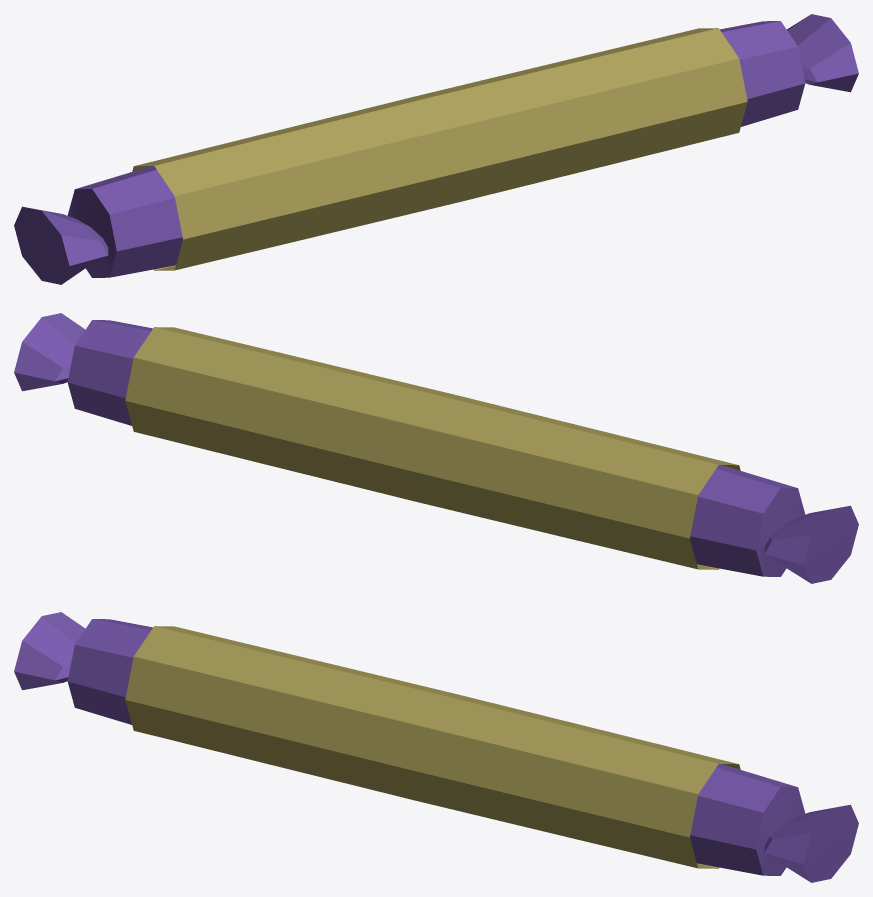
Rendered from cookies_v3.fbx.
3 renders of one model, top to bottom at view 1: azimuth 30°, elevation 25°; view 2: azimuth 150°, elevation 25°; view 3: azimuth 330°, elevation 25°, orthographic.
Visible parts, largest first — view 1: polySurface2, polySurface1; view 2: polySurface2, polySurface1; view 3: polySurface2, polySurface1.
Part boxes in pixels (x1=…): polySurface2: x1=132, y1=28, x2=747, y2=270; polySurface1: x1=14, y1=14, x2=858, y2=284; polySurface2: x1=125, y1=327, x2=740, y2=569; polySurface1: x1=14, y1=313, x2=858, y2=583; polySurface2: x1=125, y1=626, x2=740, y2=868; polySurface1: x1=14, y1=612, x2=858, y2=882.
Size of the model in its own units: 7.59 by 0.9838 by 0.9838.
